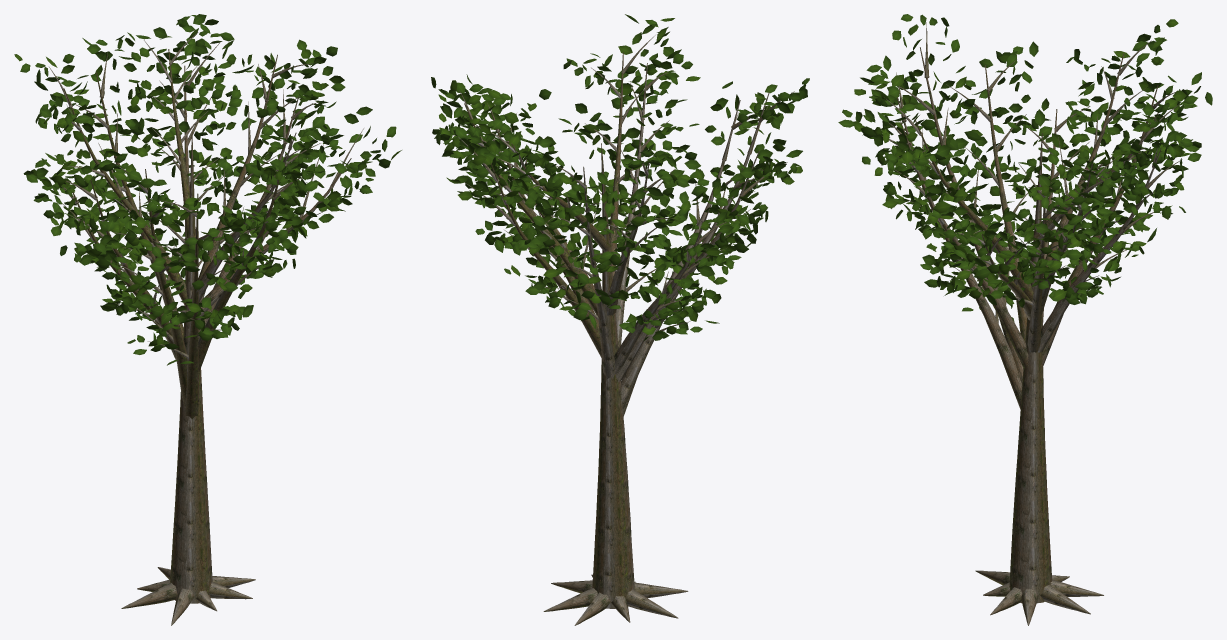
The model's file is oak_tall_lod2.gltf.
3 views of the same model, side by side, from view 1: azimuth 30°, elevation 25°; view 2: azimuth 150°, elevation 25°; view 3: azimuth 270°, elevation 25° (orthographic).
Parts seen in each view (by area): view 1: oak_tall_lod2; view 2: oak_tall_lod2; view 3: oak_tall_lod2.
Part boxes in pixels (x1,y1,x2,y2): oak_tall_lod2: [14, 14, 401, 625]; oak_tall_lod2: [431, 14, 809, 625]; oak_tall_lod2: [838, 14, 1212, 625].
Bounding box in the file's own units: 7.99 × 11.39 × 7.36.
Materials: 3 (3 with a texture image).
